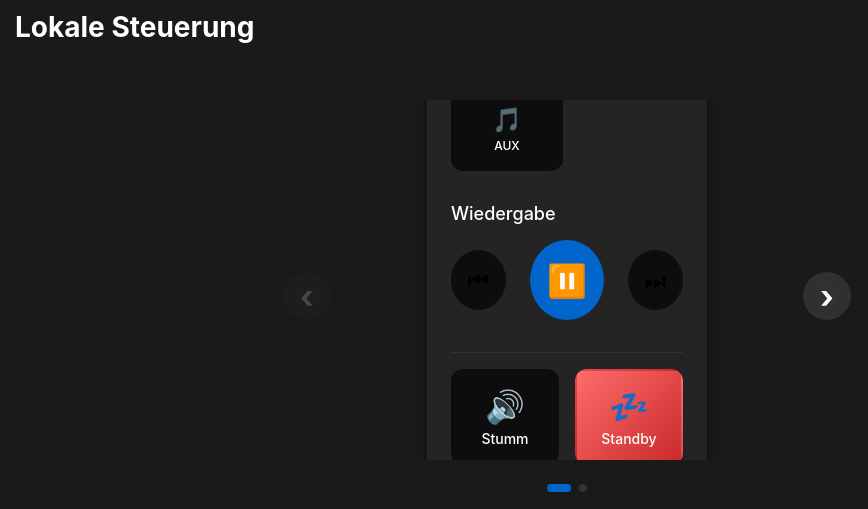
LocalControl - Core Playback Functionality › should toggle play/pause when play button clicked
(page scrolled)
# Click to pause
Click the button "⏸️".
click(567, 280)  # box [530,240,604,320]
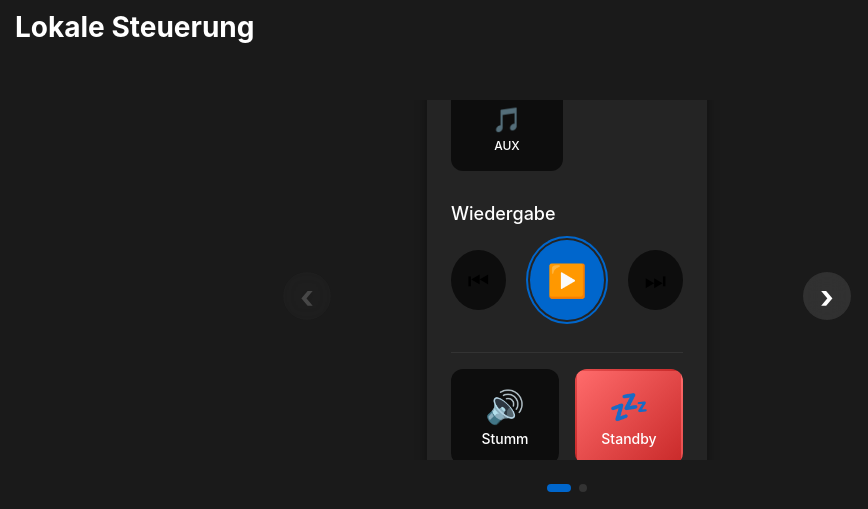
Expected: the button "⏸️" reads "▶️"
# Click to play again
Click the button "⏸️".
click(567, 280)  # box [530,240,604,320]
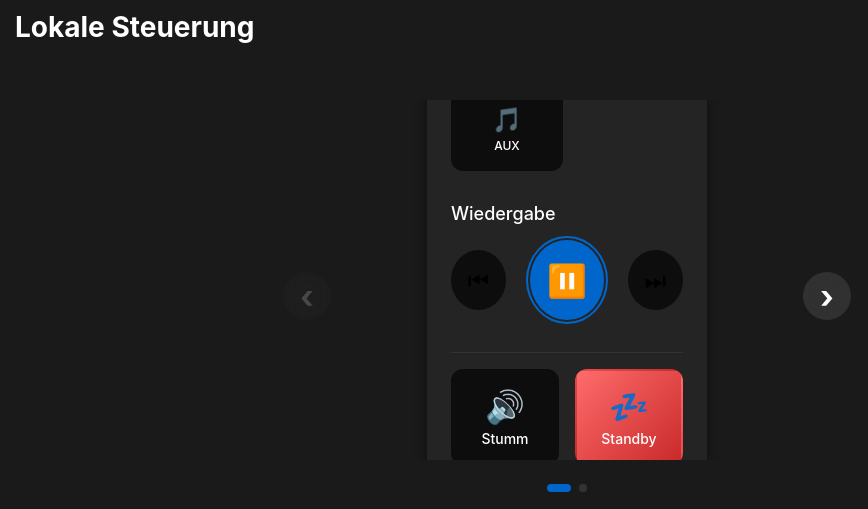
Expected: the button "⏸️" is shown, [530,240,604,320]
